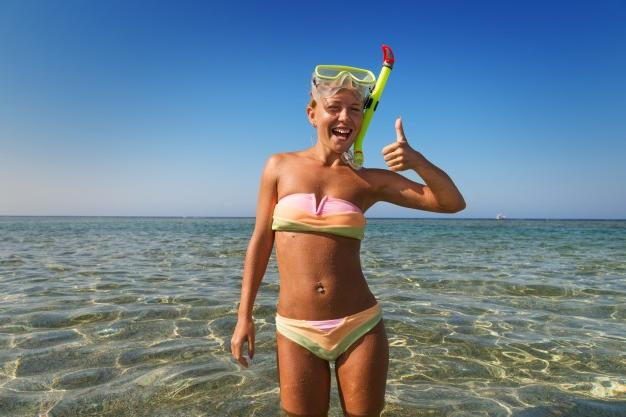thumbsup: (382, 116, 411, 172)
